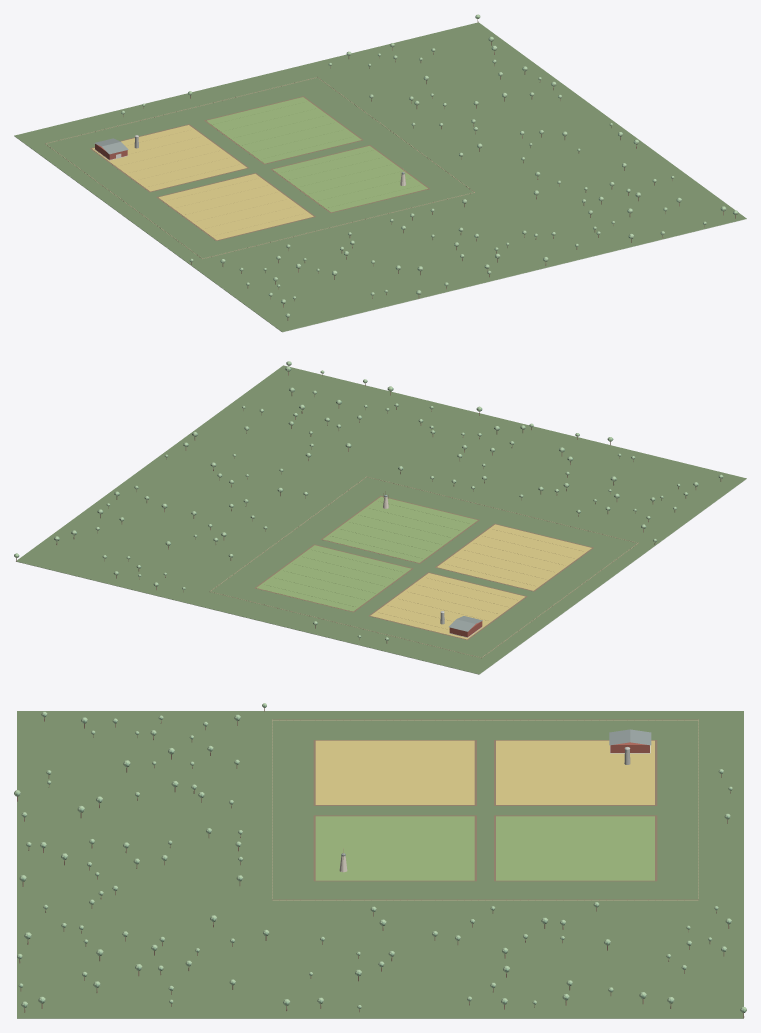
File: chunk_1_3_high.glb
3 renders of one model, top to bottom at view 1: azimuth 30°, elevation 25°; view 2: azimuth 150°, elevation 25°; view 3: azimuth 270°, elevation 25°, orthographic. The views are drawn at different scales.
Visible parts, largest first — view 1: city_forest_floor, city_field_corn, city_field_wheat, city_field_soil, city_foliage, city_wood, city_grass, city_foliage_dark; view 2: city_forest_floor, city_field_corn, city_field_wheat, city_field_soil, city_foliage, city_wood, city_grass, city_foliage_dark; view 3: city_forest_floor, city_field_corn, city_field_wheat, city_field_soil, city_foliage, city_wood, city_foliage_dark, city_bark, city_grass, city_roof_slate.
Part boxes in pixels (bbox=[...]): city_forest_floor: bbox=[14, 22, 746, 331]; city_field_corn: bbox=[206, 97, 427, 212]; city_field_wheat: bbox=[92, 125, 313, 240]; city_field_soil: bbox=[90, 96, 429, 240]; city_foliage: bbox=[121, 14, 737, 317]; city_wood: bbox=[45, 77, 474, 259]; city_grass: bbox=[14, 136, 746, 332]; city_foliage_dark: bbox=[121, 16, 738, 316]; city_forest_floor: bbox=[17, 365, 746, 674]; city_field_corn: bbox=[256, 496, 477, 611]; city_field_wheat: bbox=[370, 524, 591, 639]; city_field_soil: bbox=[254, 495, 593, 640]; city_foliage: bbox=[14, 361, 722, 640]; city_wood: bbox=[209, 476, 638, 658]; city_grass: bbox=[16, 479, 746, 674]; city_foliage_dark: bbox=[14, 362, 723, 640]; city_forest_floor: bbox=[17, 711, 743, 1018]; city_field_corn: bbox=[315, 816, 654, 880]; city_field_wheat: bbox=[315, 740, 654, 804]; city_field_soil: bbox=[313, 740, 657, 881]; city_foliage: bbox=[14, 703, 746, 1012]; city_wood: bbox=[272, 719, 698, 900]; city_foliage_dark: bbox=[16, 705, 745, 1012]; city_bark: bbox=[17, 708, 744, 1017]; city_grass: bbox=[17, 1018, 743, 1018]; city_roof_slate: bbox=[341, 729, 651, 856].
Size of the model in its own units: 515 by 18.3 by 516.
